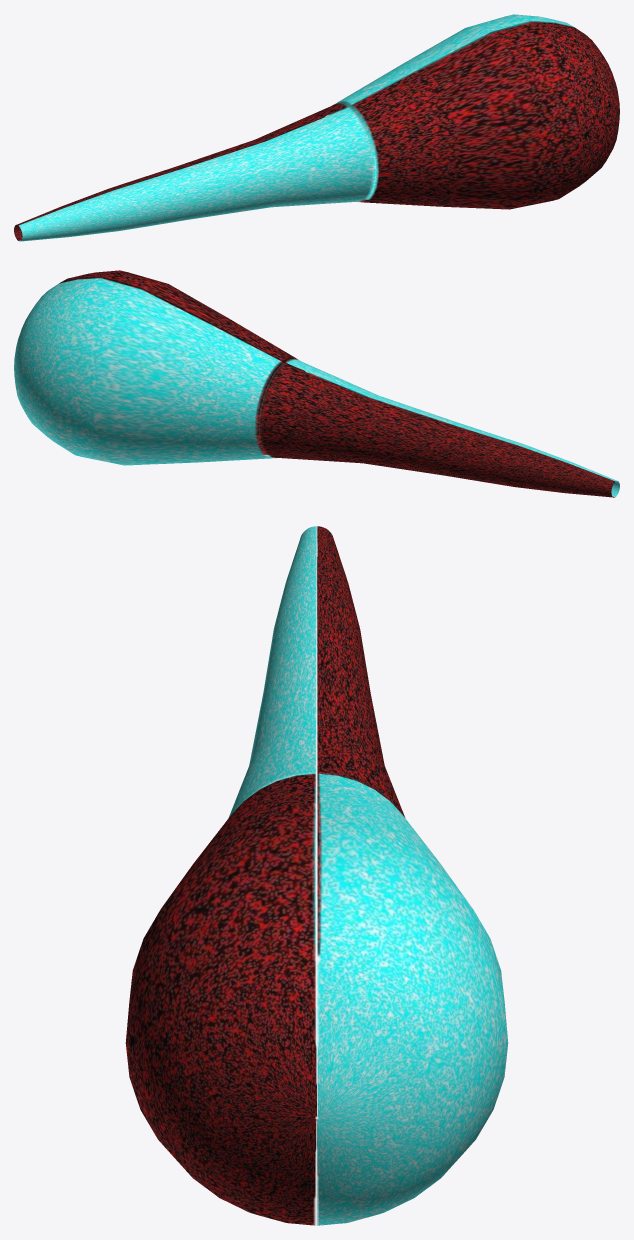
3 renders of one model, top to bottom at view 1: azimuth 30°, elevation 25°; view 2: azimuth 150°, elevation 25°; view 3: azimuth 270°, elevation 25°, orthographic. The views are drawn at different scales.
Parts seen in each view (by area): view 1: SM_Thicktail_01_LOD0; view 2: SM_Thicktail_01_LOD0; view 3: SM_Thicktail_01_LOD0.
Boxes of the visible parts, <box> form: SM_Thicktail_01_LOD0: <box>14,14,619,241</box>; SM_Thicktail_01_LOD0: <box>14,270,619,497</box>; SM_Thicktail_01_LOD0: <box>125,526,508,1225</box>.
Size of the model in its own units: 1.69 by 0.473 by 0.473.
Materials: 1 (1 with a texture image).
